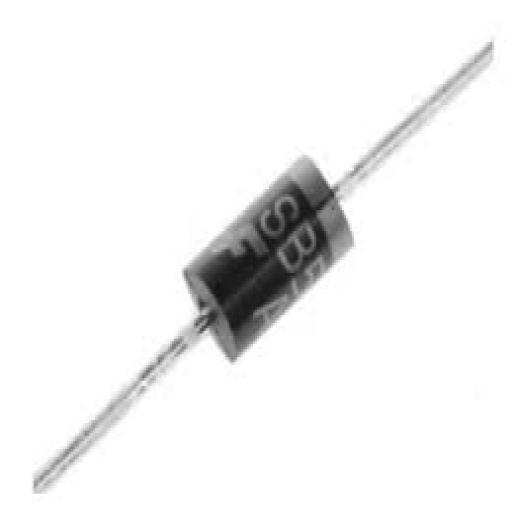DIODE: (30, 34, 494, 494)
